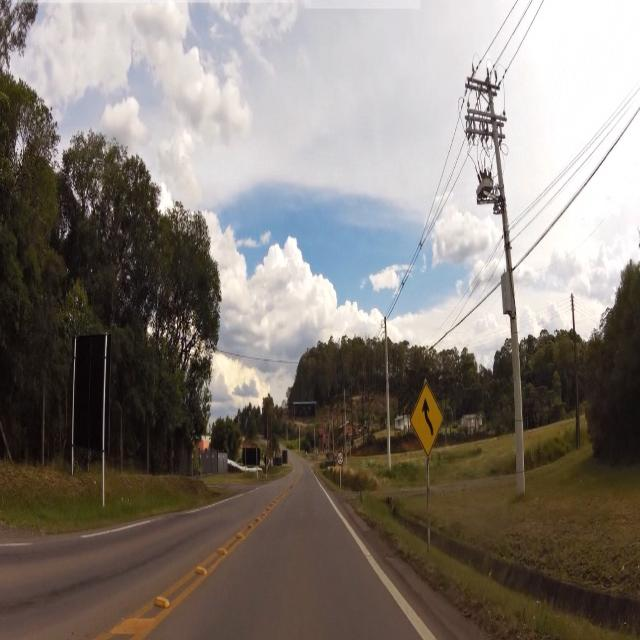A-5a: (410, 386, 452, 457)
